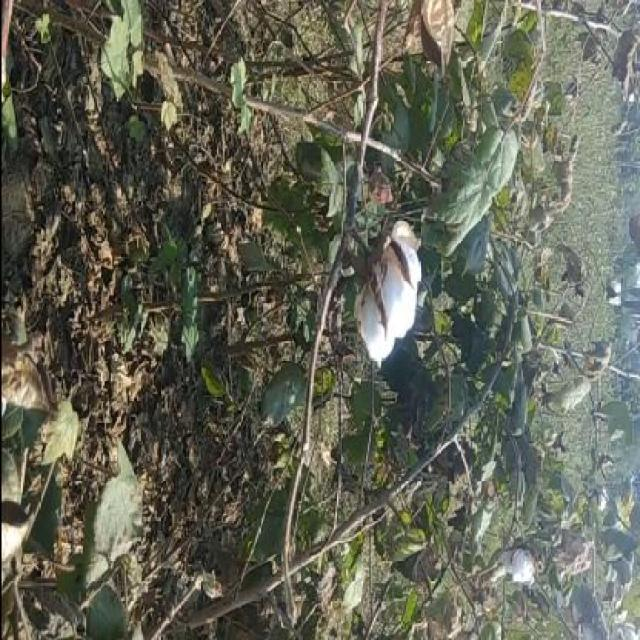cotton_ready: (326, 200, 436, 366)
